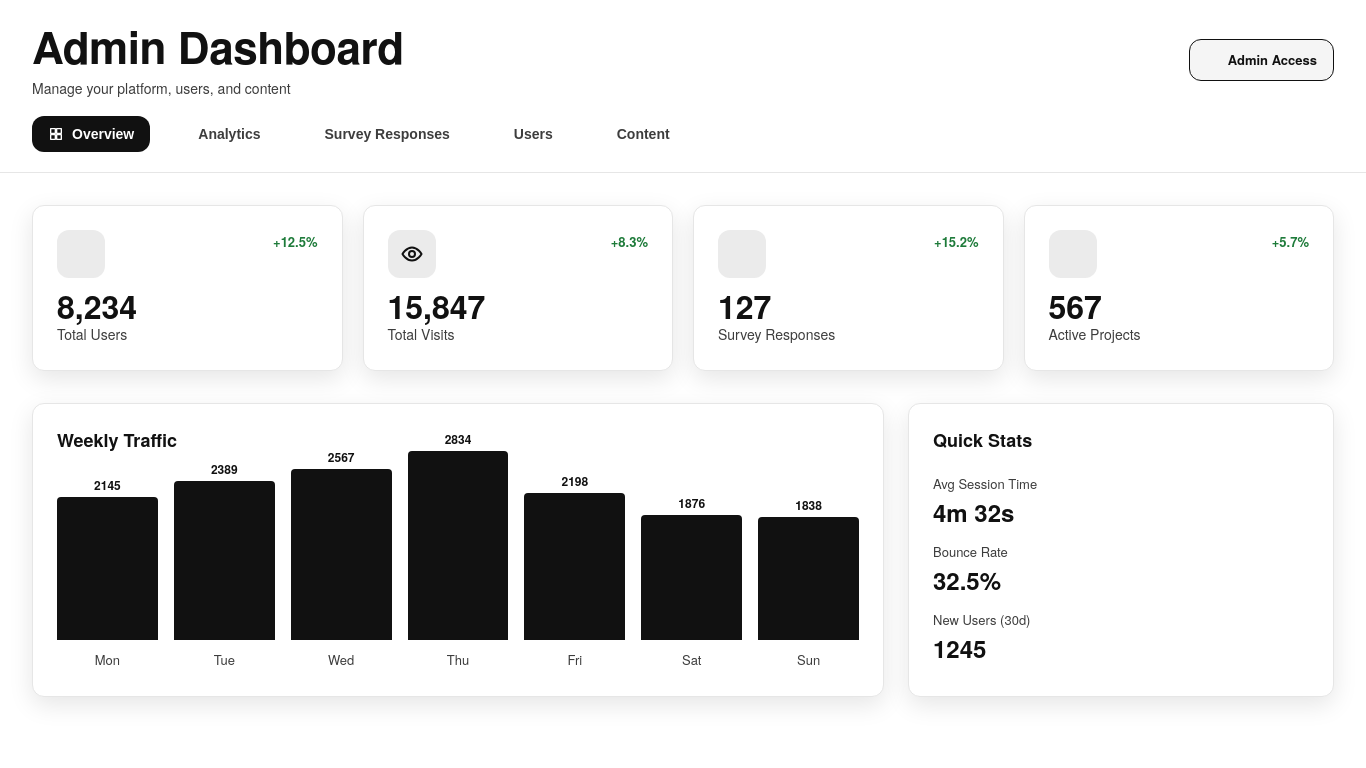
Test: AdminDashboard › shows survey stats and recent responses when the "Survey Responses" tab is clicked
What coordinates should you click on to do the following:
click the button "Survey Responses"
I would click on:
 (375, 134)
Its box is [284,116,466,152].
(page scrolled)
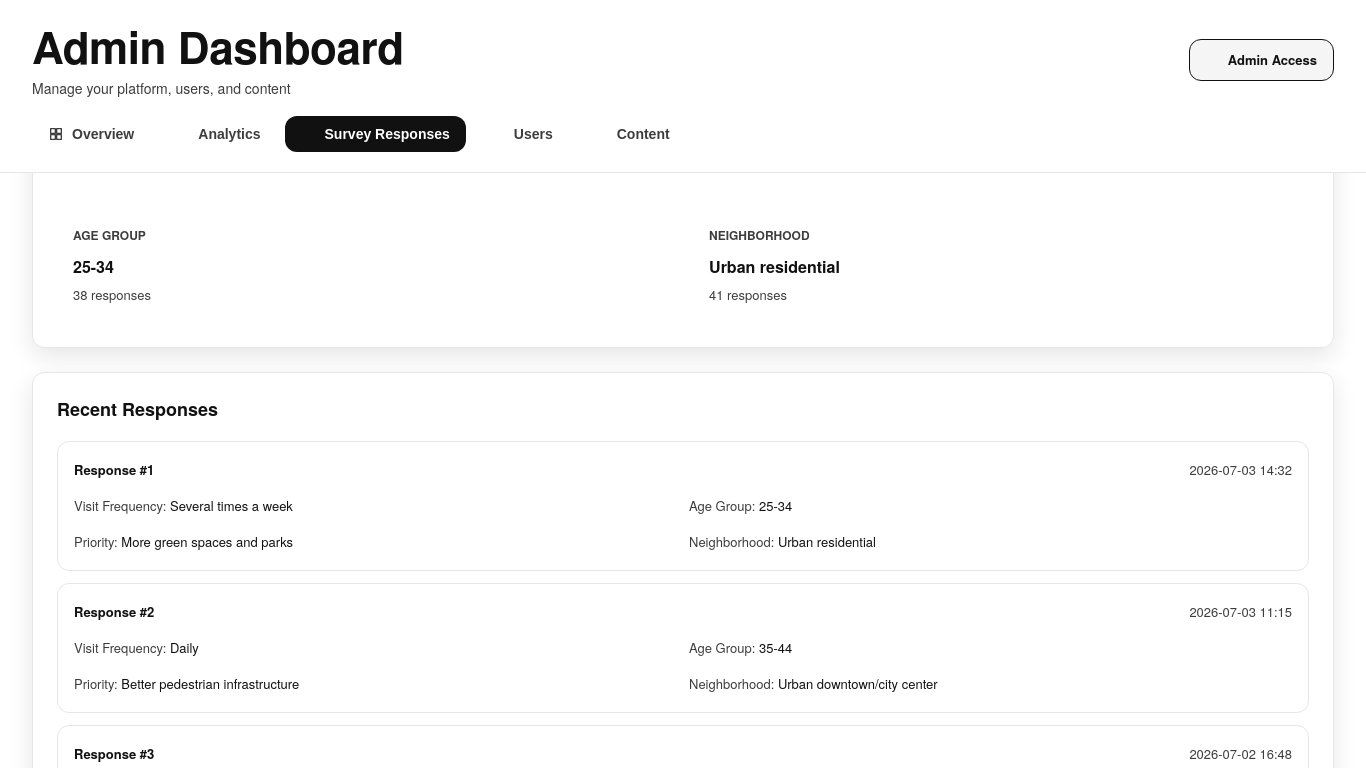
Result: the heading "Recent Responses" is shown at [57,396,218,422]
Result: the text "Response #1" is shown at [74,458,154,482]
